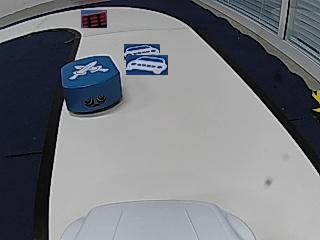spy: (69, 61, 108, 79)
